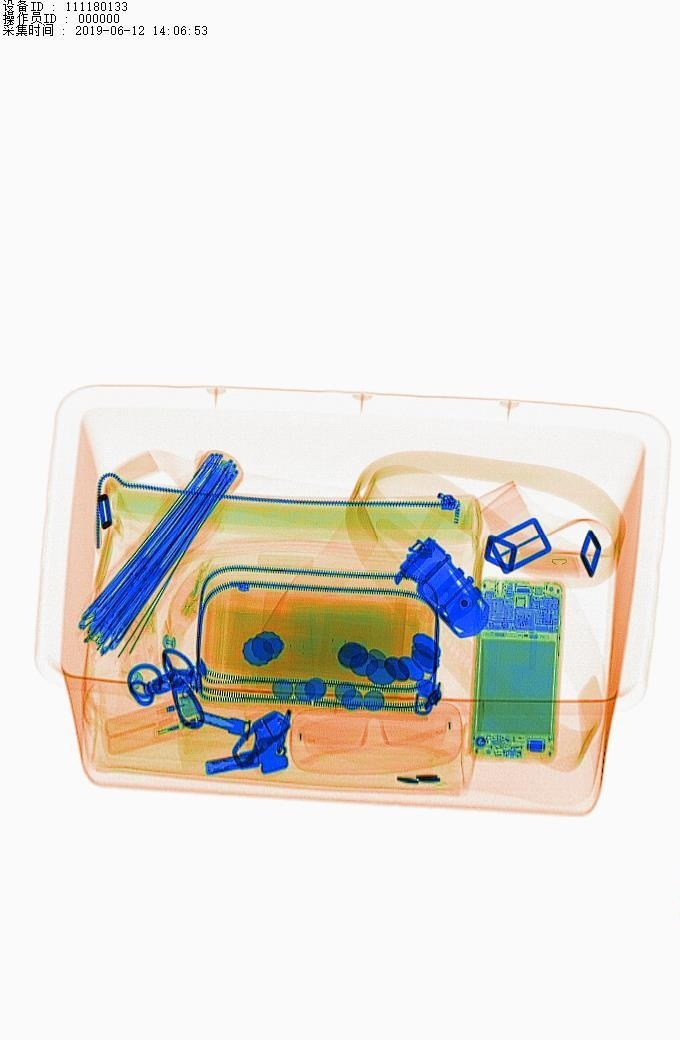NonmetallicFire: (92, 700, 212, 759)
